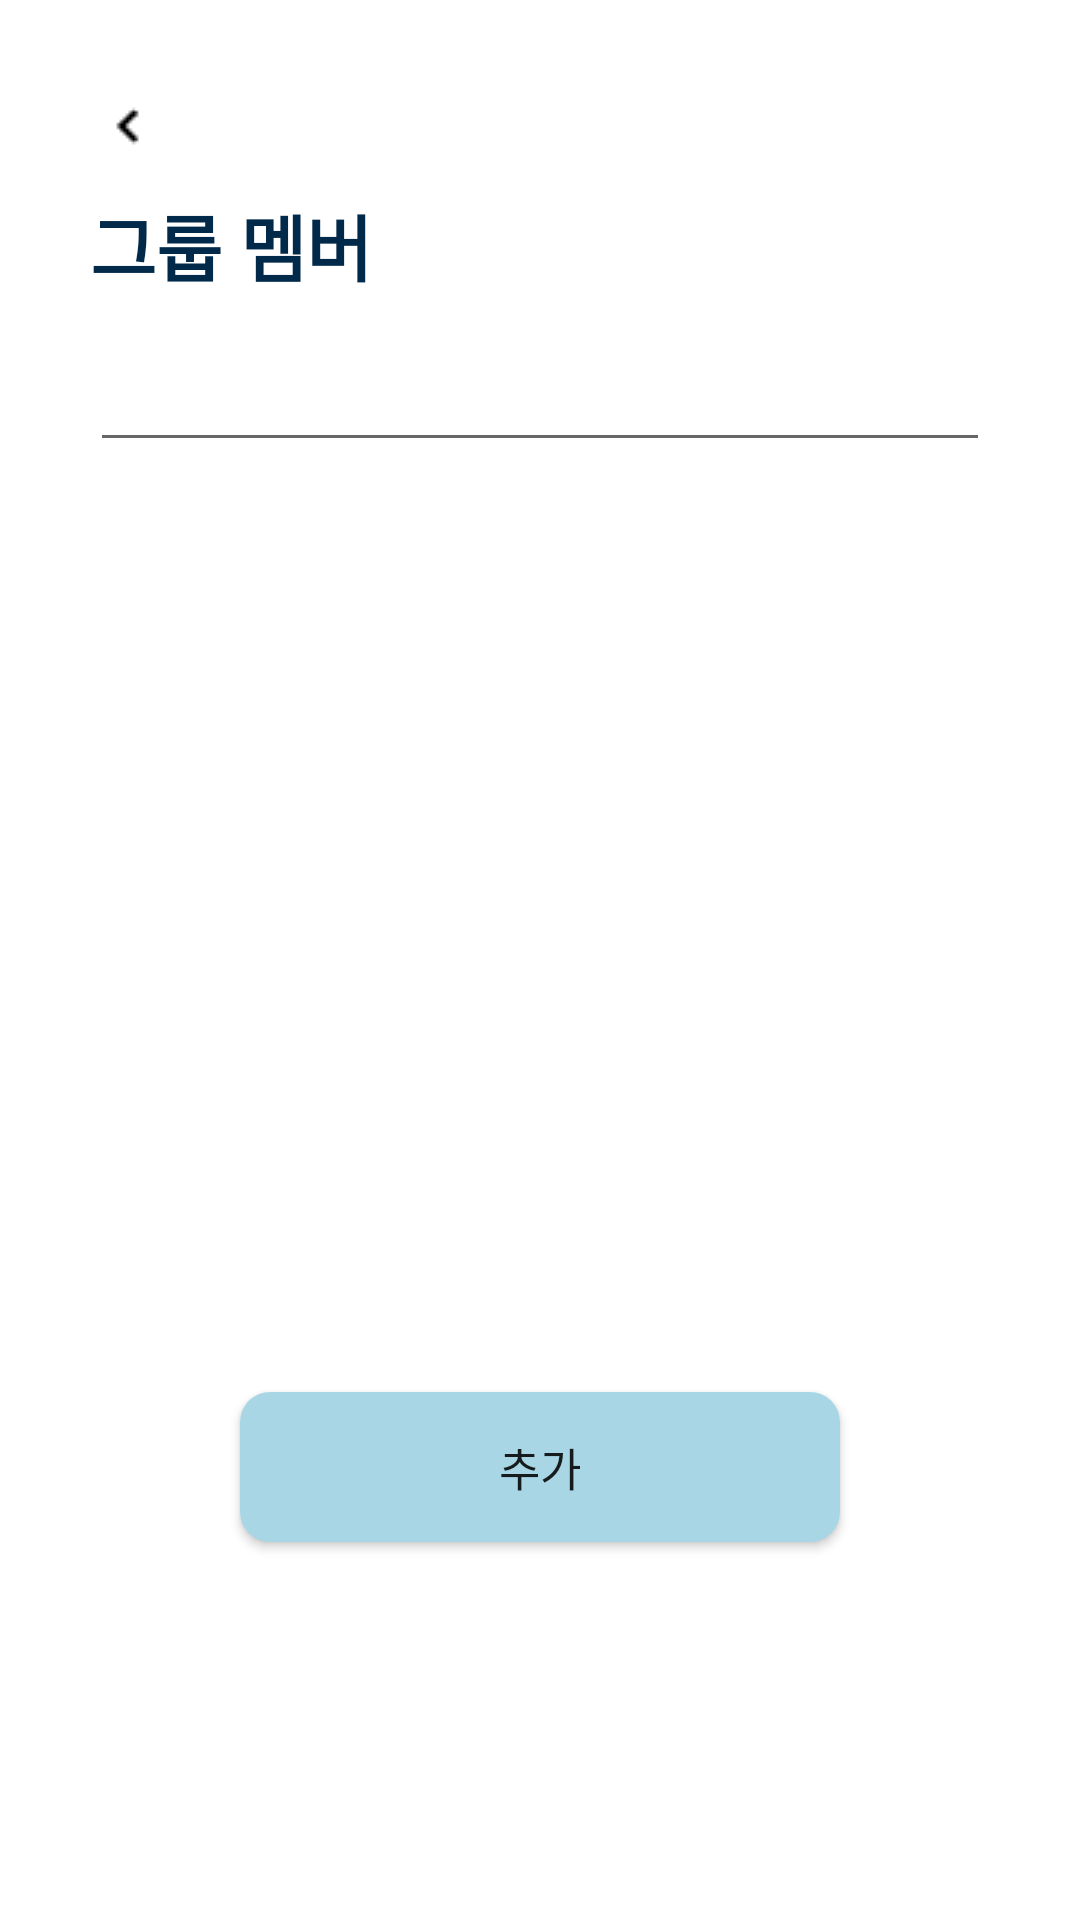

Screen size 1080 x 1920. Icon name, then its box in pixels as (x1, y1, x2, y2):
back: (116, 108, 139, 144)
